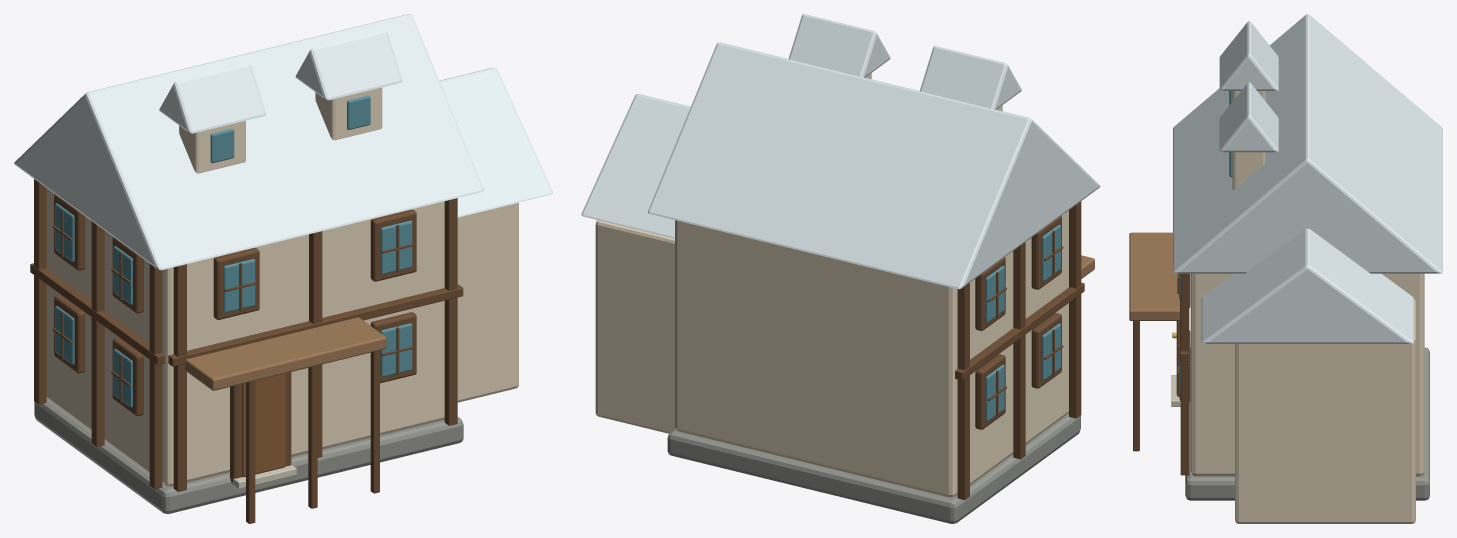
The model's file is snowy-townhouse-2.glb.
3 views of the same model, side by side, from view 1: azimuth 30°, elevation 25°; view 2: azimuth 150°, elevation 25°; view 3: azimuth 270°, elevation 25° (orthographic). The views are drawn at different scales.
Parts seen in each view (by area): view 1: Snow, Warm lime, Dark beams, Foundation stone, Blue glass, Aged oak, Door oak; view 2: Warm lime, Snow, Dark beams, Foundation stone, Blue glass; view 3: Snow, Warm lime, Aged oak, Dark beams, Foundation stone.
Part boxes in pixels (bbox=[...]): Snow: bbox=[14, 14, 552, 270]; Warm lime: bbox=[46, 87, 518, 486]; Dark beams: bbox=[30, 179, 463, 523]; Foundation stone: bbox=[34, 399, 463, 513]; Blue glass: bbox=[55, 95, 412, 407]; Aged oak: bbox=[185, 317, 386, 390]; Door oak: bbox=[242, 373, 285, 477]; Warm lime: bbox=[595, 73, 1068, 497]; Snow: bbox=[581, 14, 1100, 289]; Dark beams: bbox=[955, 201, 1084, 499]; Foundation stone: bbox=[667, 413, 1080, 523]; Blue glass: bbox=[986, 224, 1060, 421]; Snow: bbox=[1173, 14, 1442, 343]; Warm lime: bbox=[1190, 91, 1424, 523]; Aged oak: bbox=[1129, 232, 1179, 320]; Dark beams: bbox=[1133, 273, 1190, 475]; Foundation stone: bbox=[1185, 347, 1429, 500].
Bounding box in the file's own units: 4.96 × 4.59 × 3.55.
